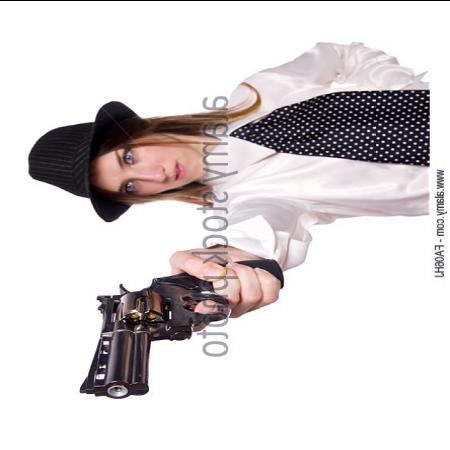Pistol: (77, 255, 283, 398)
